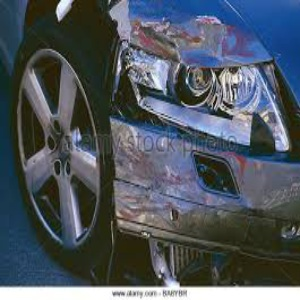bumper: (113, 172, 282, 275)
